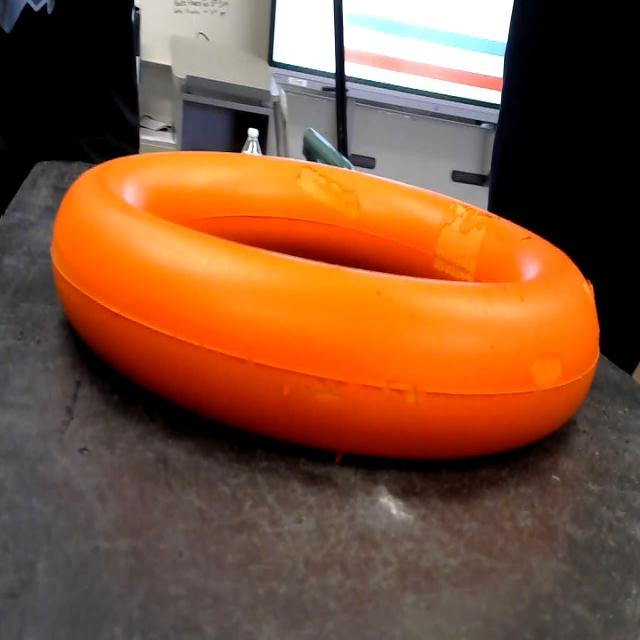note: (41, 112, 623, 475)
